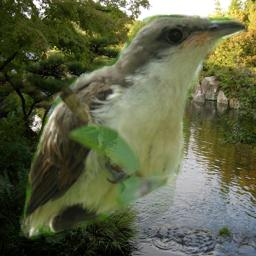Cuckoo: (18, 13, 245, 242)
